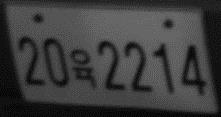0: (42, 36, 70, 86)
1: (149, 42, 180, 94)
2: (15, 35, 46, 86), (124, 40, 153, 93), (97, 40, 126, 92)
4: (181, 43, 209, 98)
육: (70, 48, 99, 90)
